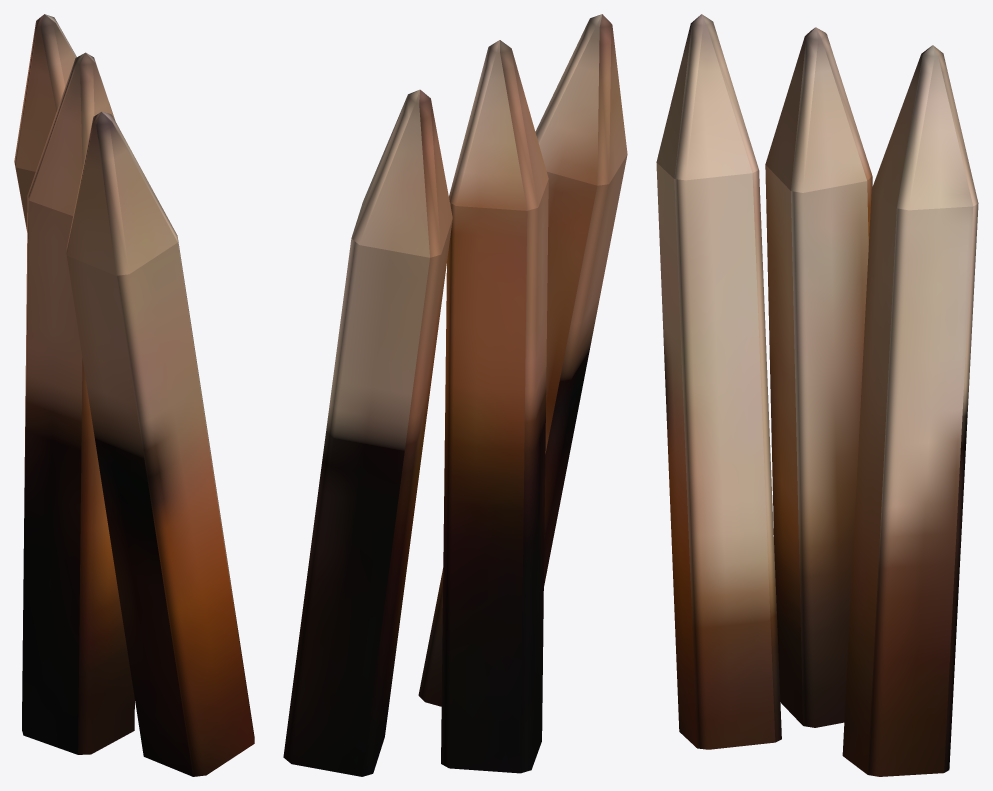
File: pencils.glb
3 renders of one model, left to right at view 1: azimuth 30°, elevation 25°; view 2: azimuth 150°, elevation 25°; view 3: azimuth 270°, elevation 25°, orthographic. The views are drawn at different scales.
Visible parts, largest first — view 1: Pencil_1_Fourth_Hover_Raycaster, Pencil_2_Fourth_Hover_Raycaster, Pencil_3_Fourth_Hover_Raycaster; view 2: Pencil_2_Fourth_Hover_Raycaster, Pencil_3_Fourth_Hover_Raycaster, Pencil_1_Fourth_Hover_Raycaster; view 3: Pencil_3_Fourth_Hover_Raycaster, Pencil_1_Fourth_Hover_Raycaster, Pencil_2_Fourth_Hover_Raycaster.
Part boxes in pixels (x1,y1,x2,y2): Pencil_1_Fourth_Hover_Raycaster: (66,111,254,776); Pencil_2_Fourth_Hover_Raycaster: (22,52,134,754); Pencil_3_Fourth_Hover_Raycaster: (14,14,76,232); Pencil_2_Fourth_Hover_Raycaster: (441,40,548,773); Pencil_3_Fourth_Hover_Raycaster: (283,89,452,776); Pencil_1_Fourth_Hover_Raycaster: (418,14,627,706); Pencil_3_Fourth_Hover_Raycaster: (842,45,978,776); Pencil_1_Fourth_Hover_Raycaster: (656,14,781,749); Pencil_2_Fourth_Hover_Raycaster: (765,27,872,727).
Bounding box in the file's own units: 0.1121 × 0.325 × 0.1382.
Materials: 1 (1 with a texture image).
